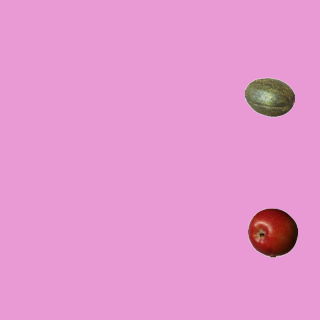Apple Braeburn: (247, 207, 297, 257)
Melon Piel de Sapo: (244, 72, 294, 122)
